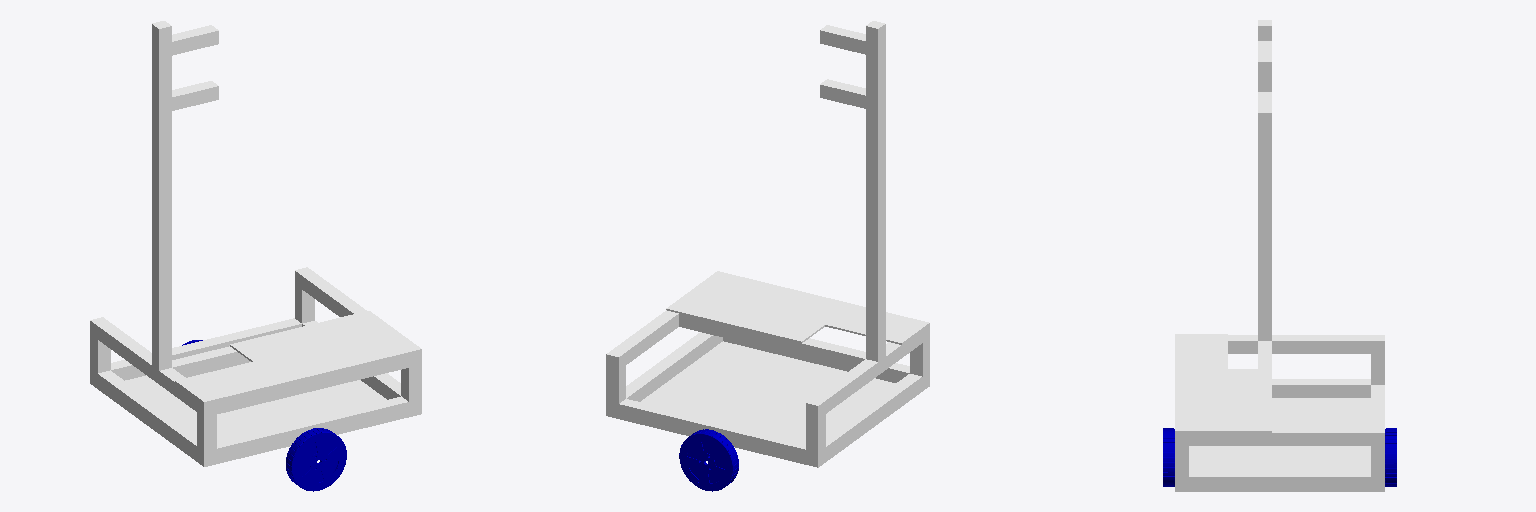
The robot description file, URDF, robot "my_robot":
<?xml version="1.0" ?>
<robot name="my_robot" xmlns:xacro="http://www.ros.org/wiki/xacro">

    <material name="blue">
        <color rgba="0 0 0.8 1"/>
    </material>

    <material name="white">
        <color rgba="1 1 1 1"/>
    </material>

    <gazebo reference="base_link">
        <material><Gazebo/>
        <White></White></material>
    </gazebo>

    <gazebo reference="right_wheel">
        <material><Gazebo/>
        <Blue></Blue></material>
    </gazebo>

    <gazebo reference="left_wheel">
        <material><Gazebo/>
        <Blue></Blue></material>
    </gazebo>
    
    <!--Ground-->
    <link name="base_footprint">
    </link>  
  
    <!--Body of the mobile platform-->
    <link name="base_link">
    <visual>
      <origin rpy="0.0 0.0 0.0" xyz="-0.25 -0.2275 0.0365"/>
      <geometry>
        <mesh filename="package://myrobot/stl/Chasis_New.STL" scale="0.001 0.001 0.001"/> 
      </geometry>
      <material name="white"/>
    </visual>
    <collision>
      <origin rpy="0.0 0.0 0.0" xyz="-0.25 -0.2275 0.0365"/>
      <geometry>
        <mesh filename="package://myrobot/stl/Chasis_New.STL" scale="0.001 0.001 0.001" />
      </geometry>
    </collision>
    </link>

    <!--Joint between ground and base-->
    <joint name="base_joint" type="fixed">
        <origin xyz="0.0 0.0 0.1" rpy="0 0 0" />
        <parent link="base_footprint" />
        <child link="base_link" />
    </joint>  

    <!--Right wheel-->
    <link name="right_wheel">
    <visual>
      <origin rpy="1.57 0.0 0.0" xyz="-0.0635 0.025 -0.0635"/>
      <geometry>
        <mesh filename="package://myrobot/stl/Wheel.STL" scale="0.001 0.001 0.001"/> 
      </geometry>
      <material name="blue"/>
    </visual>
    <collision>
      <origin rpy="1.57 0.0 0.0" xyz="-0.0635 0.025 -0.0635"/>
      <geometry>
        <mesh filename="package://myrobot/stl/Wheel.STL" scale="0.001 0.001 0.001" />
      </geometry>
    </collision>
    </link>

    <!--Joint between right wheel and base-->
    <joint name="right_wheel_joint" type="continuous">
        <origin xyz="0.0 0.2275 0.0" rpy="0 0 0" />
        <parent link="base_link" />
        <child link="right_wheel" />
        <axis xyz="0 1 0" />
    </joint>  

    <!--Left wheel-->
    <link name="left_wheel">
    <visual>
      <origin rpy="-1.57 0.0 0.0" xyz="-0.0635 -0.025 0.0635"/>
      <geometry>
        <mesh filename="package://myrobot/stl/Wheel.STL" scale="0.001 0.001 0.001"/> 
      </geometry>
      <material name="blue"/>
    </visual>
    <collision>
      <origin rpy="-1.57 0.0 0.0" xyz="-0.0635 -0.025 0.0635"/>
      <geometry>
        <mesh filename="package://myrobot/stl/Wheel.STL" scale="0.001 0.001 0.001" />
      </geometry>
    </collision>
    </link>  

    <!--Joint between left wheel and base-->
    <joint name="left_wheel_joint" type="continuous">
        <origin xyz="0.0 -0.2275 0.0" rpy="0 0 0" />
        <parent link="base_link" />
        <child link="left_wheel" />
        <axis xyz="0 1 0" />
    </joint>

</robot>

--- What the picture shows (computed from the rendered views, not written in the file) ---
The picture shows the robot from 3 angles, left to right: view 1: azimuth 30°, elevation 25°; view 2: azimuth 150°, elevation 25°; view 3: azimuth 270°, elevation 25°; orthographic projection.
Robot: my_robot — 4 links, 3 joints (2 continuous, 1 fixed); root link base_footprint; default pose: every joint at zero.
Visible links, largest first — view 1: base_link, left_wheel; view 2: base_link, right_wheel; view 3: base_link, right_wheel, left_wheel.
Link boxes in pixels (x1,y1,x2,y2): base_link: (90, 21, 421, 466); left_wheel: (286, 428, 346, 491); base_link: (606, 21, 929, 467); right_wheel: (679, 429, 738, 491); base_link: (1175, 20, 1384, 491); right_wheel: (1385, 428, 1396, 486); left_wheel: (1163, 428, 1174, 486).
Size in the robot's own frame: 0.5 by 0.505 by 0.989 metres.
Meshes: 2 distinct files referenced, 3 mesh visuals loaded (2 binary STL).